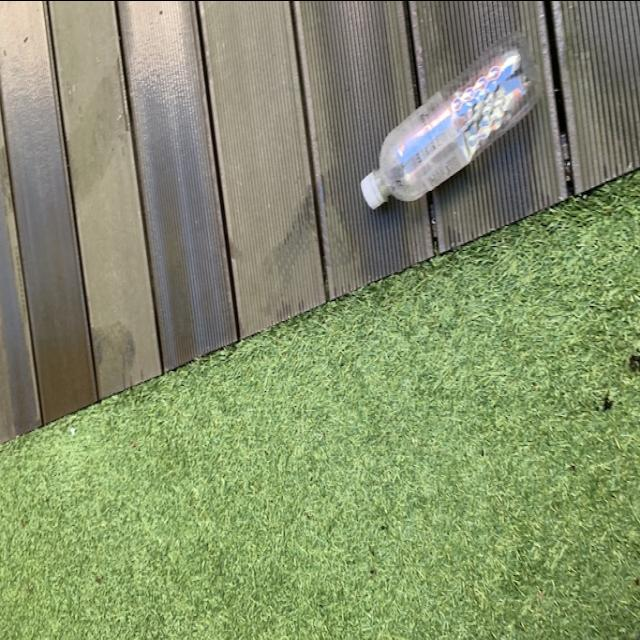PET: (360, 16, 550, 206)
